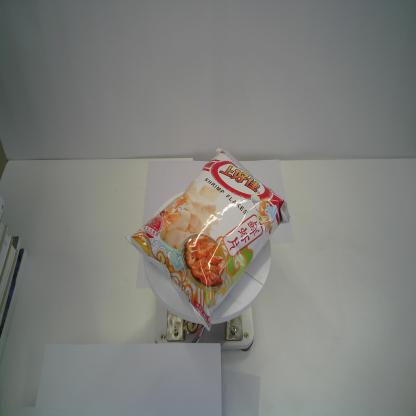Puffed Food: (122, 145, 292, 332)
